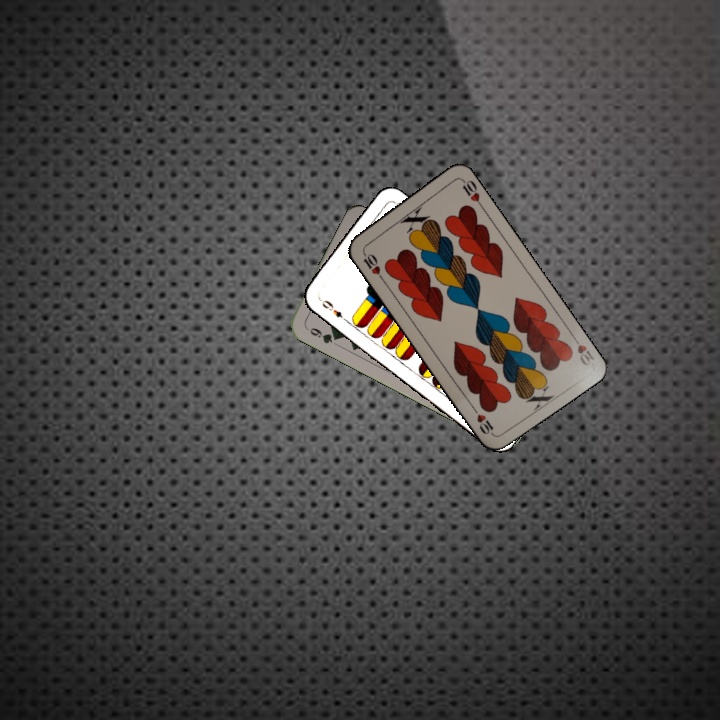E9: (315, 295, 350, 324)
G9: (302, 323, 342, 346)
H10: (568, 331, 597, 368), (358, 246, 386, 283)
